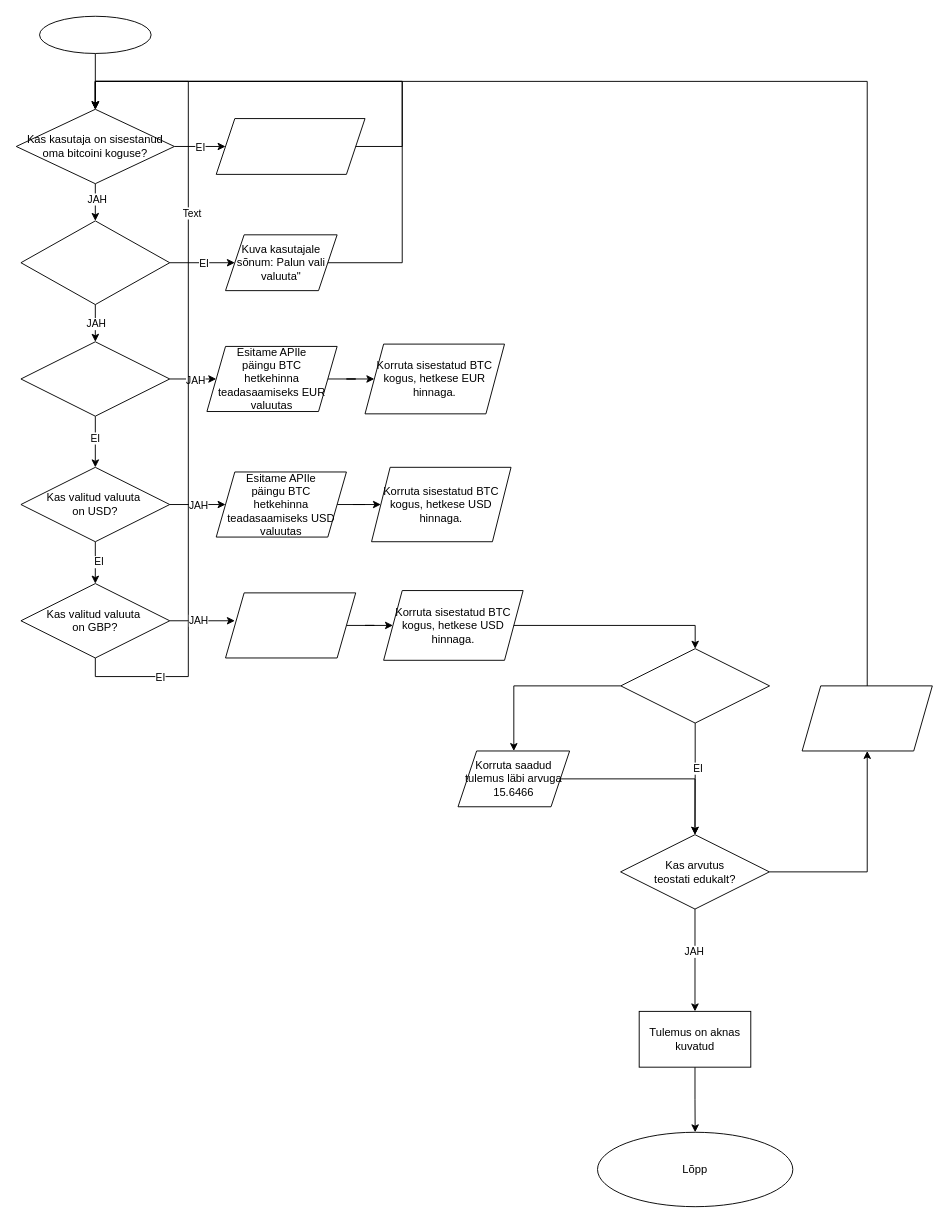
Image size: 949x1223. Some labels were removed from this diagram. The shapes that lost their labels are listed below. From the top down, each one's box as (x1, y1, x2, y2) in pixels, then its label:
(39, 15, 151, 53): Algus
(215, 118, 365, 174): Kuva kasutajale sõnum: Palun sisesta bitcoini kogus"
(20, 220, 170, 305): Kas kasutaja on valinud sihtvaluuta?
(20, 341, 170, 416): Kas valitud valuuta on EUR?
(225, 592, 356, 658): Esitame APIle päingu BTC hetkehinna teadasaamiseks GBP valuutas
(620, 648, 770, 723): Kas valitud valuuta on EEK
(801, 685, 932, 751): Kuva kasutajale sõnum "Tulemuse arvutus ebaõnnestus, palun proovi uuesti"
